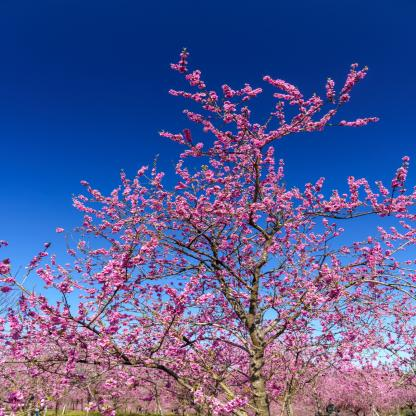Momo: (0, 45, 416, 416)
